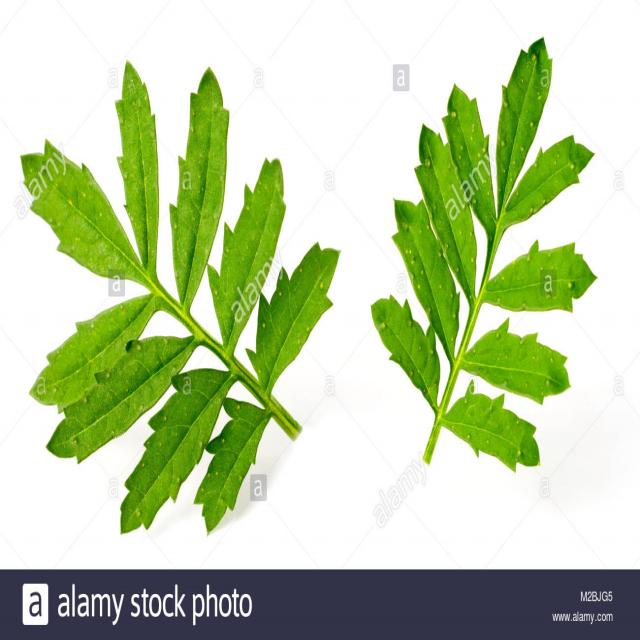green waste: (1, 1, 637, 563)
